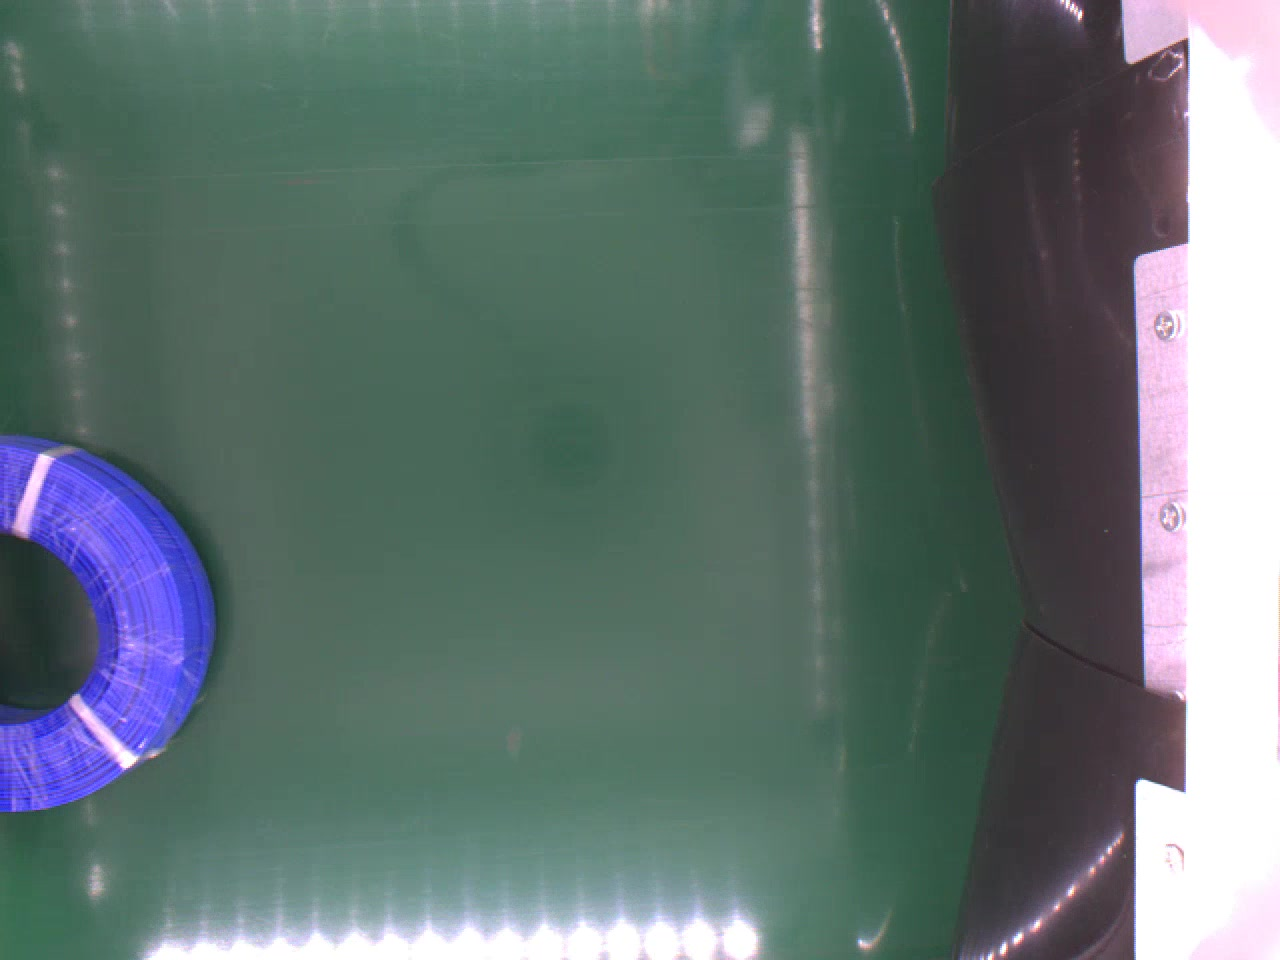blue: (0, 433, 217, 816)
